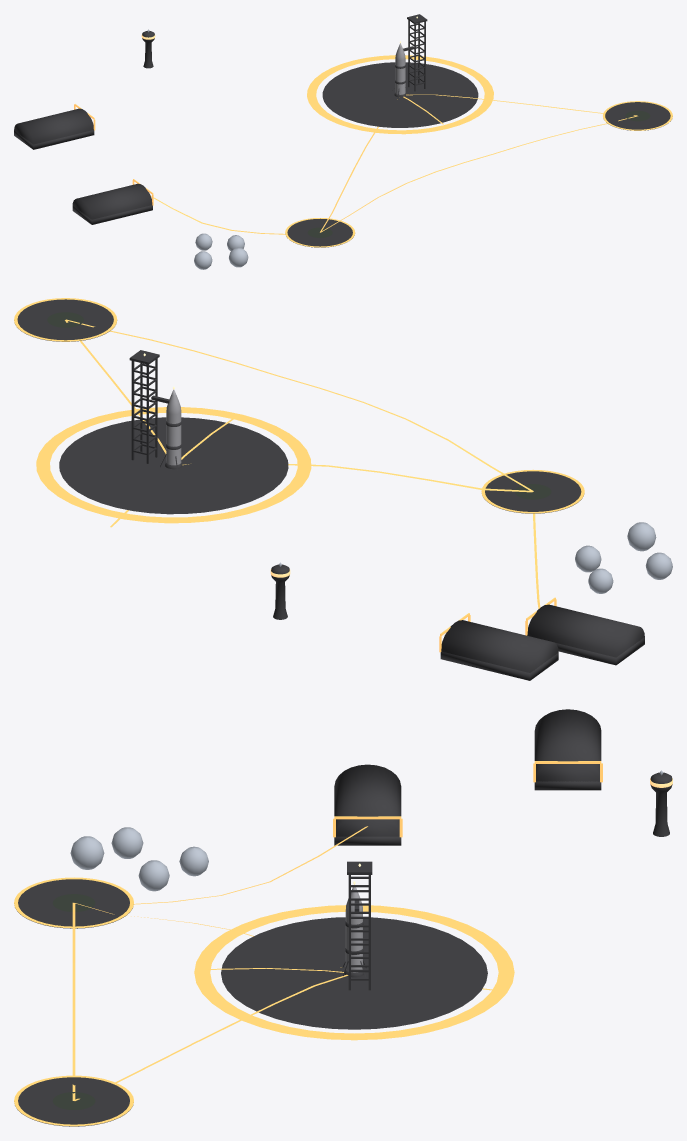
File: spaceport.glb
3 views of the same model, one above another, from view 1: azimuth 30°, elevation 25°; view 2: azimuth 150°, elevation 25°; view 3: azimuth 270°, elevation 25° (orthographic). The views are drawn at different scales.
Parts seen in each view (by area): view 1: LandingZonePad, LandingZoneRing, SP_Hangar0, SP_Hangar1, SP_Pad1, SP_Pad0, SP_Tanks, SP_Gantry, SP_Rocket, SP_Taxi2; view 2: LandingZonePad, LandingZoneRing, SP_Hangar1, SP_Hangar0, SP_Pad1, SP_Pad0, SP_Tanks, SP_Gantry, SP_Rocket, SP_Taxi2, SP_ControlTower, SP_PadRing1 (+1 smaller); view 3: LandingZonePad, LandingZoneRing, SP_Hangar0, SP_Hangar1, SP_Pad1, SP_Pad0, SP_Tanks, SP_Gantry, SP_ControlTower, SP_Rocket, SP_PadRing0, SP_PadRing1 (+1 smaller).
Part boxes in pixels (bbox=[...]): LandingZonePad: bbox=[322, 62, 478, 127]; LandingZoneRing: bbox=[307, 55, 493, 134]; SP_Hangar0: bbox=[72, 183, 152, 224]; SP_Hangar1: bbox=[14, 108, 94, 149]; SP_Pad1: bbox=[605, 102, 670, 130]; SP_Pad0: bbox=[286, 218, 354, 247]; SP_Tanks: bbox=[194, 233, 248, 269]; SP_Gantry: bbox=[403, 14, 427, 91]; SP_Rocket: bbox=[395, 43, 405, 94]; SP_Taxi2: bbox=[320, 115, 637, 232]; LandingZonePad: bbox=[59, 417, 288, 514]; LandingZoneRing: bbox=[36, 407, 311, 523]; SP_Hangar1: bbox=[440, 620, 558, 680]; SP_Hangar0: bbox=[527, 604, 644, 665]; SP_Pad1: bbox=[15, 299, 114, 341]; SP_Pad0: bbox=[483, 471, 583, 513]; SP_Tanks: bbox=[575, 522, 672, 593]; SP_Gantry: bbox=[129, 350, 169, 463]; SP_Rocket: bbox=[166, 389, 181, 465]; SP_Taxi2: bbox=[65, 319, 533, 491]; SP_ControlTower: bbox=[271, 564, 289, 619]; SP_PadRing1: bbox=[14, 298, 117, 341]; LandingZonePad: bbox=[221, 917, 487, 1029]; LandingZoneRing: bbox=[194, 905, 514, 1040]; SP_Hangar0: bbox=[334, 764, 401, 845]; SP_Hangar1: bbox=[534, 709, 601, 790]; SP_Pad1: bbox=[15, 1077, 133, 1126]; SP_Pad0: bbox=[15, 879, 132, 928]; SP_Tanks: bbox=[70, 827, 208, 891]; SP_Gantry: bbox=[347, 861, 372, 990]; SP_ControlTower: bbox=[650, 772, 672, 836]; SP_Rocket: bbox=[345, 887, 362, 972]; SP_PadRing0: bbox=[14, 877, 133, 928]; SP_PadRing1: bbox=[14, 1075, 133, 1126].
Bounding box in the file's own units: 740 × 190 × 494.
